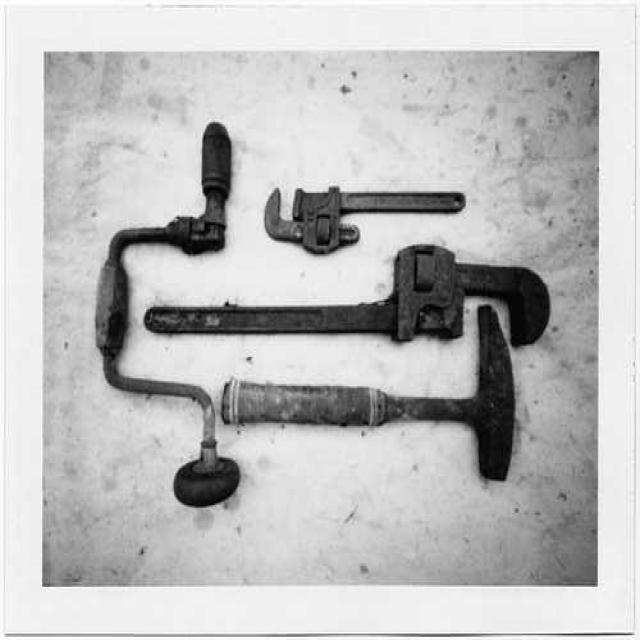hammer: (222, 314, 528, 484)
